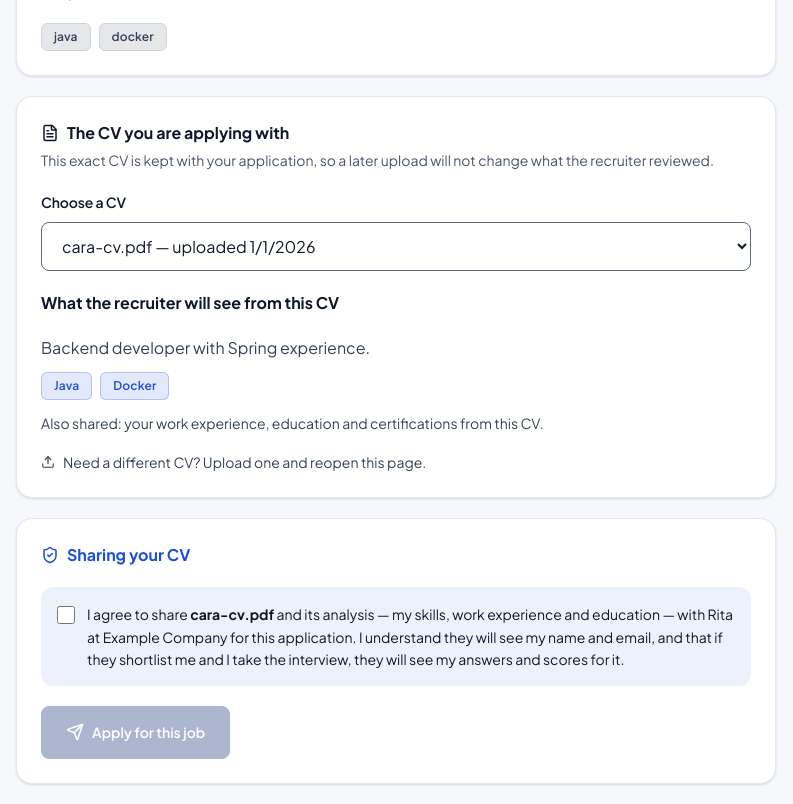
Scenario: a rejected submission shows the server message and stays on the form
The image size is (793, 804).
(page scrolled)
Click the checkbox with id "consent" at [66, 615], box [57,606,75,624]
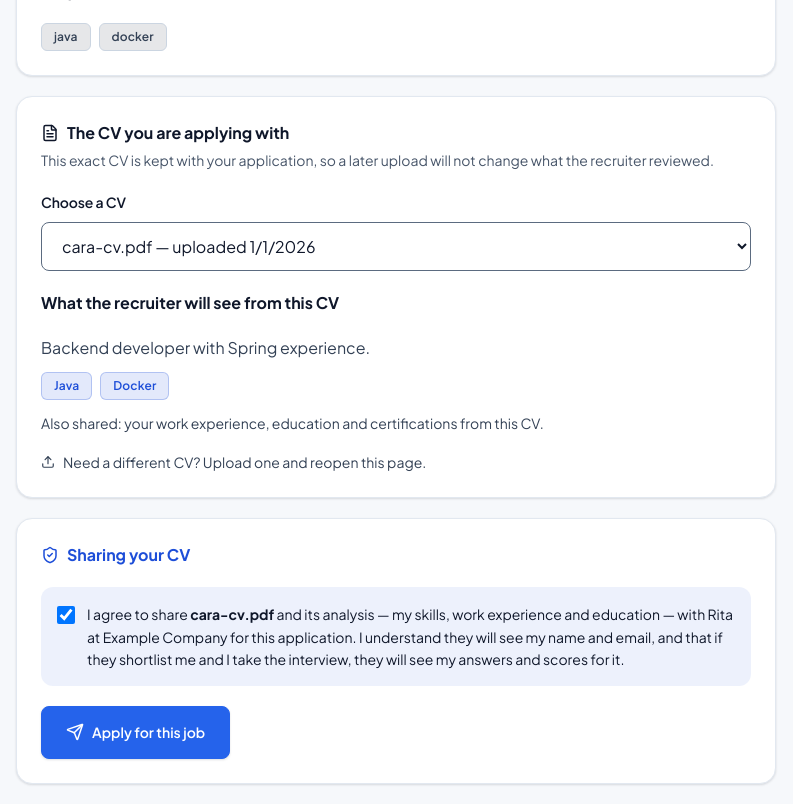
Click the button "Apply for this job" at [136, 732], box [41,706,230,759]
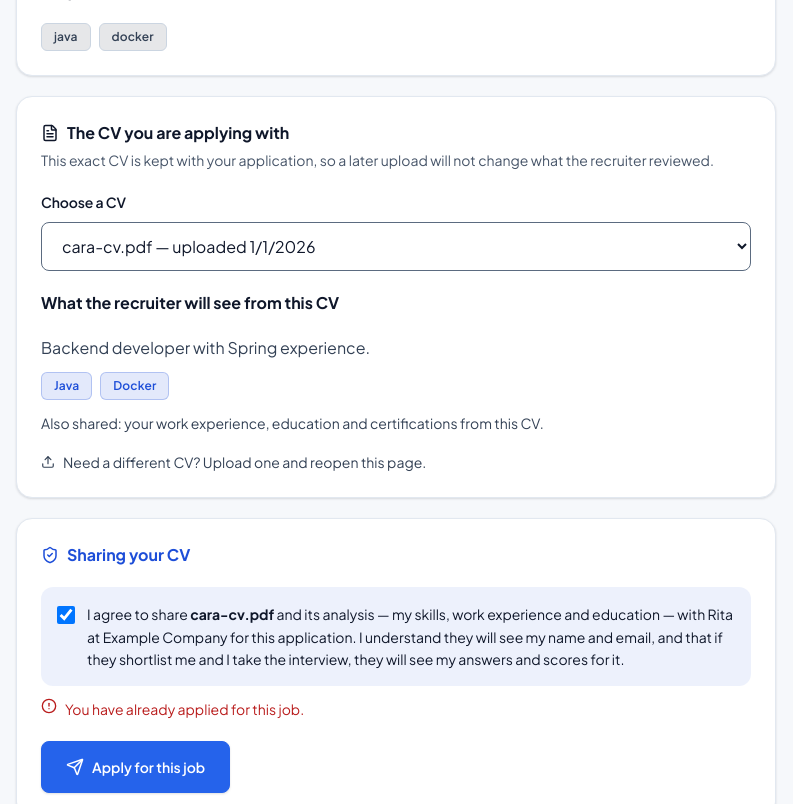
Check: the message "You have already applied for this job." is shown, box [41,698,304,718]
